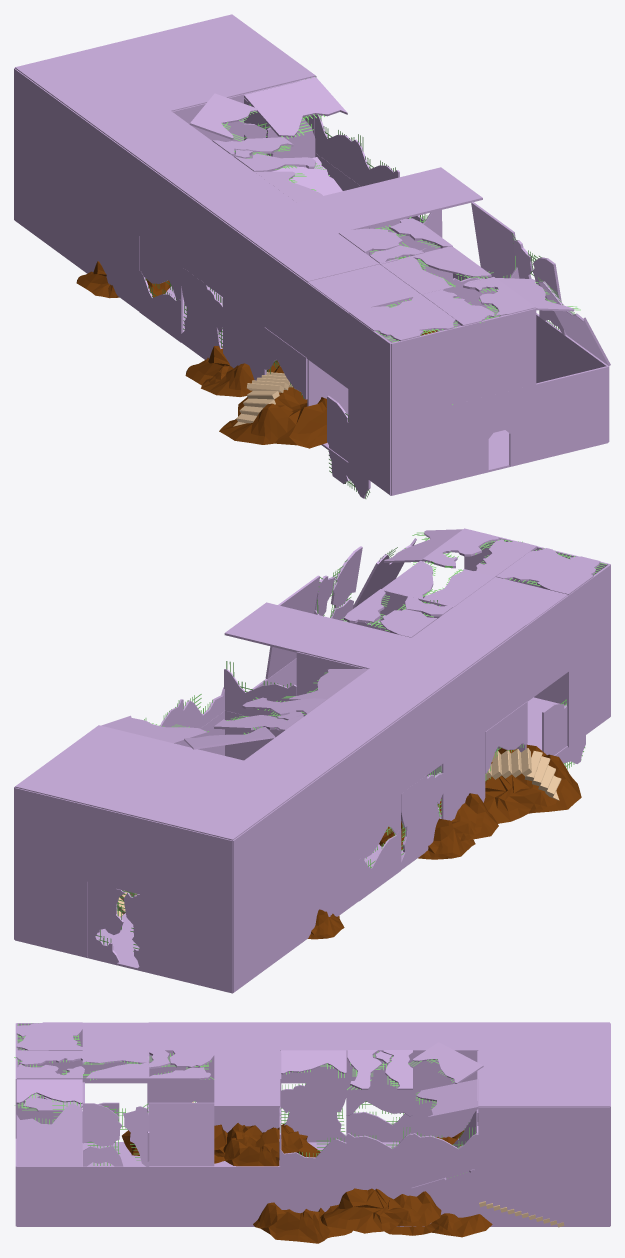
The model's file is lvl 2 yes destruction.fbx.
The picture shows the model from 3 angles, top to bottom: view 1: azimuth 30°, elevation 25°; view 2: azimuth 150°, elevation 25°; view 3: azimuth 270°, elevation 25°; orthographic projection. The views are drawn at different scales.
Parts seen in each view (by area): view 1: plain wall.255, plain wall.257, plain wall.256, plain wall.258, doored wall 1.005, rubble.007, plain wall 8.003, plain wall.220, plain wall.214, plain wall.219, plain wall.213, plain wall.218 (+54 smaller); view 2: plain wall.230, plain wall.231, plain wall.233, plain wall.234, plain wall.241, wall fucked 2.002, rubble.007, plain wall.212, plain wall.229, plain wall.221, plain wall.213, plain wall.214 (+50 smaller); view 3: plain wall.248, plain wall.237, plain wall.250, plain wall.251, plain wall.235, plain wall.253, plain wall.236, rubble.003, plain wall.238, plain wall.247, plain wall 8.004, plain wall 7.003 (+51 smaller).
Part boxes in pixels (<box>): plain wall.255: <box>536,366,608,459</box>; plain wall.257: <box>391,325,463,419</box>; plain wall.256: <box>464,308,536,401</box>; plain wall.258: <box>391,402,463,495</box>; doored wall 1.005: <box>464,384,536,477</box>; rubble.007: <box>219,365,327,448</box>; plain wall 8.003: <box>244,77,347,138</box>; plain wall.220: <box>348,313,391,419</box>; plain wall.214: <box>97,129,139,235</box>; plain wall.219: <box>306,282,348,388</box>; plain wall.213: <box>55,99,97,204</box>; plain wall.218: <box>264,252,306,357</box>; plain wall.230: <box>159,823,232,916</box>; plain wall.231: <box>159,899,232,992</box>; plain wall.233: <box>14,864,87,957</box>; plain wall.234: <box>14,787,87,881</box>; plain wall.241: <box>87,805,159,899</box>; wall fucked 2.002: <box>87,881,159,973</box>; rubble.007: <box>484,744,581,823</box>; plain wall.212: <box>232,810,275,916</box>; plain wall.229: <box>232,886,275,992</box>; plain wall.221: <box>567,641,610,747</box>; plain wall.213: <box>275,779,317,885</box>; plain wall.214: <box>317,748,359,854</box>; plain wall.248: <box>148,1102,214,1166</box>; plain wall.237: <box>478,1106,544,1166</box>; plain wall.250: <box>148,1166,214,1226</box>; plain wall.251: <box>82,1166,148,1226</box>; plain wall.235: <box>544,1106,609,1166</box>; plain wall.253: <box>16,1167,82,1226</box>; plain wall.236: <box>544,1167,609,1226</box>; rubble.003: <box>320,1188,441,1233</box>; plain wall.238: <box>478,1167,544,1226</box>; plain wall.247: <box>214,1166,280,1226</box>; plain wall 8.004: <box>16,1102,82,1166</box>; plain wall 7.003: <box>281,1083,346,1142</box>.
Bounding box in the file's own units: 1810 × 975 × 3621.
